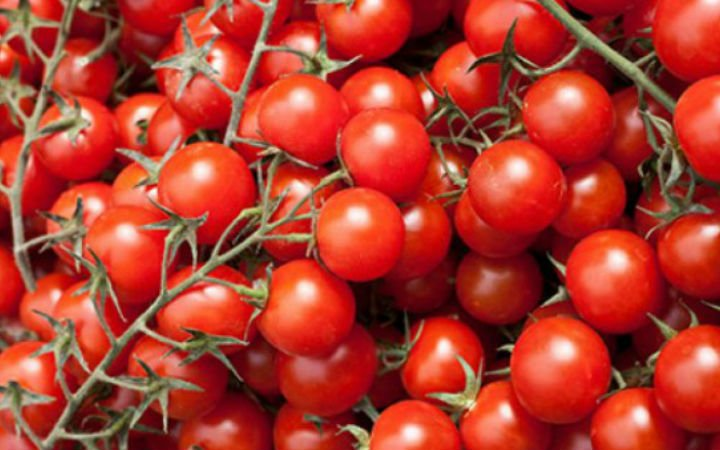Tomato: (145, 146, 258, 245), (335, 108, 437, 200), (469, 144, 560, 231)
